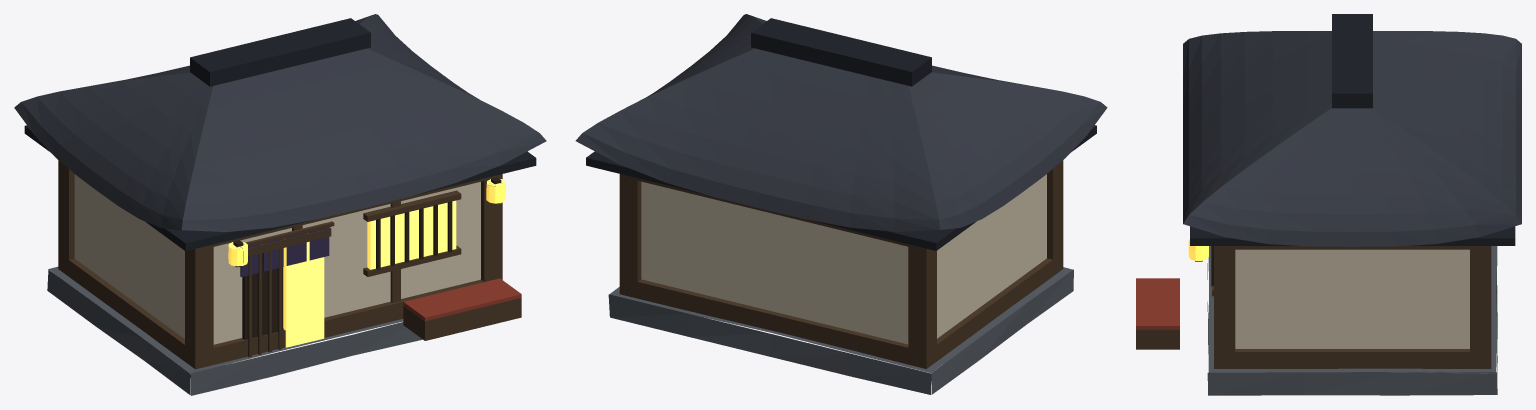
The model's file is 2-21_teahouse.glb.
The picture shows the model from 3 angles, left to right: view 1: azimuth 30°, elevation 25°; view 2: azimuth 150°, elevation 25°; view 3: azimuth 270°, elevation 25°; orthographic projection.
Visible parts, largest first — view 1: 茶屋; view 2: 茶屋; view 3: 茶屋.
Boxes of the visible parts, x1,y1,x2,y2 form: 茶屋: [14, 14, 546, 395]; 茶屋: [575, 14, 1107, 394]; 茶屋: [1136, 14, 1521, 395].
Size of the model in its own units: 6.8 by 4.62 by 6.15.
